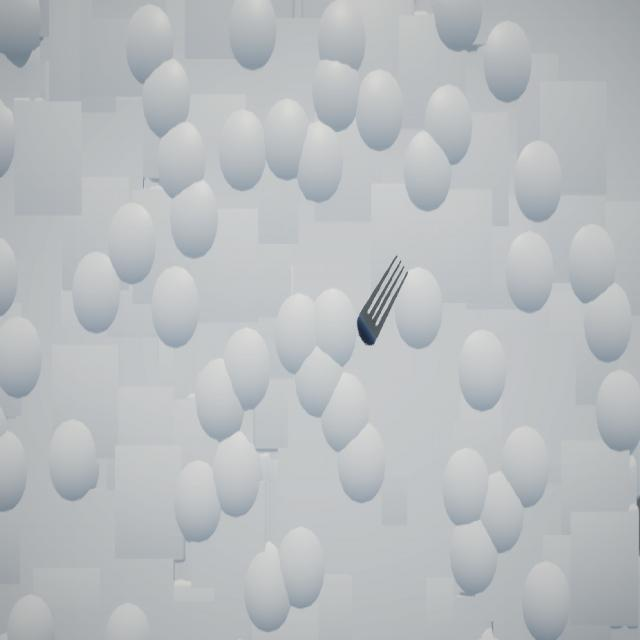top_folk: (358, 256, 410, 347)
